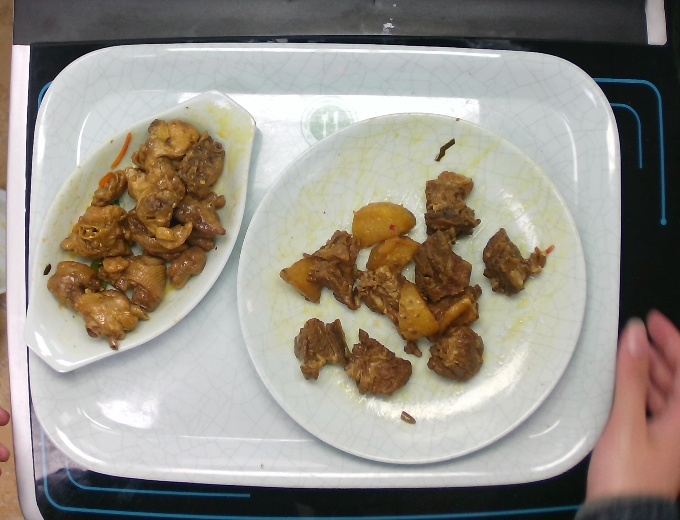JYsf-Da_Yuan_Pan: (229, 106, 592, 471)
JYsf-Yu_Pan: (16, 86, 260, 379)
